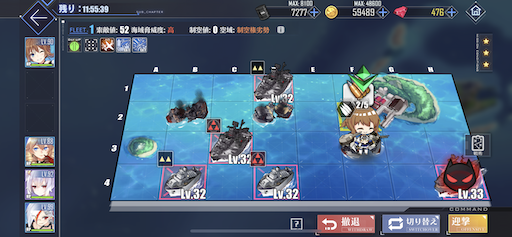boss: (434, 151, 485, 198)
lv2: (158, 151, 205, 198), (249, 60, 296, 101)
lv3: (251, 151, 300, 197), (207, 118, 252, 162)
